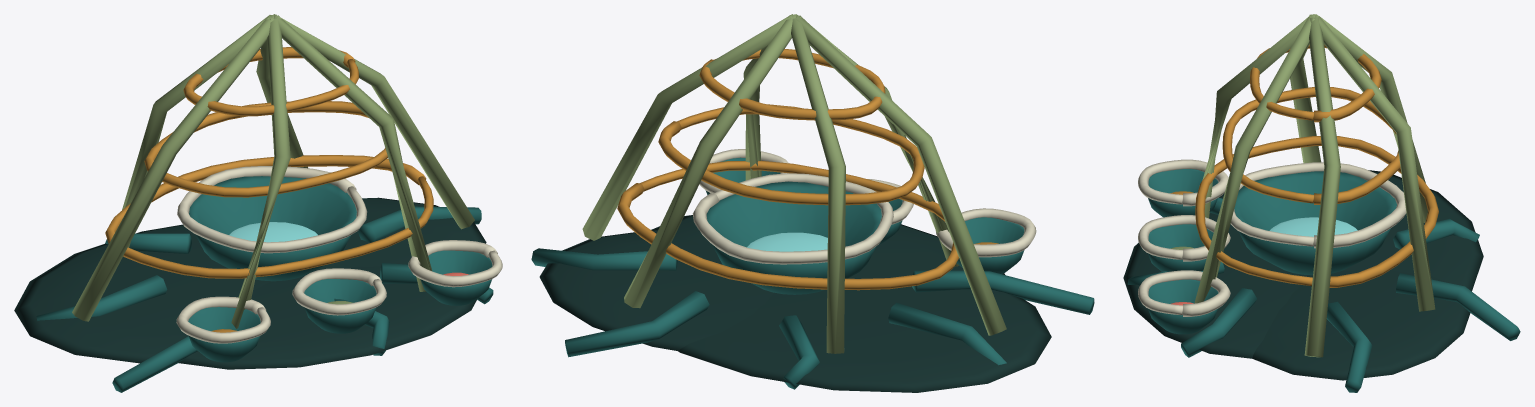
Rendered from building_composite_workshop_a.obj.
The picture shows the model from 3 angles, left to right: view 1: azimuth 30°, elevation 25°; view 2: azimuth 150°, elevation 25°; view 3: azimuth 270°, elevation 25°; orthographic projection. The views are drawn at different scales.
Visible parts, largest first — view 1: irregular_anchoring_lobe.102, irregular_anchoring_lobe.104, open_living_cup.103, woven_cross_strand, tensioned_forming_rib.003, tensioned_forming_rib.005, grown_cup_lip.103, tensioned_forming_rib, tensioned_forming_rib.004, woven_cross_strand.001, irregular_anchoring_lobe.103, tensioned_forming_rib.002 (+15 smaller); view 2: irregular_anchoring_lobe.102, irregular_anchoring_lobe.103, open_living_cup.103, woven_cross_strand, tensioned_forming_rib.003, tensioned_forming_rib.002, tensioned_forming_rib.001, tensioned_forming_rib, woven_cross_strand.001, grown_cup_lip.103, irregular_anchoring_lobe.104, anchoring_root.239 (+11 smaller); view 3: irregular_anchoring_lobe.103, open_living_cup.103, irregular_anchoring_lobe.104, tensioned_forming_rib, woven_cross_strand, tensioned_forming_rib.001, irregular_anchoring_lobe.102, tensioned_forming_rib.005, grown_cup_lip.103, woven_cross_strand.001, tensioned_forming_rib.004, open_living_cup.106 (+13 smaller).
Boxes of the visible parts, bbox=[...] form: irregular_anchoring_lobe.102: bbox=[14, 224, 270, 363]; irregular_anchoring_lobe.104: bbox=[178, 264, 477, 369]; open_living_cup.103: bbox=[189, 176, 356, 281]; woven_cross_strand: bbox=[105, 155, 433, 278]; tensioned_forming_rib.003: bbox=[72, 16, 273, 321]; tensioned_forming_rib.005: bbox=[276, 15, 432, 291]; grown_cup_lip.103: bbox=[177, 166, 367, 253]; tensioned_forming_rib: bbox=[274, 14, 474, 229]; tensioned_forming_rib.004: bbox=[231, 18, 290, 328]; woven_cross_strand.001: bbox=[144, 101, 387, 197]; irregular_anchoring_lobe.103: bbox=[317, 197, 486, 269]; tensioned_forming_rib.002: bbox=[122, 15, 271, 247]; irregular_anchoring_lobe.102: bbox=[678, 287, 1051, 392]; irregular_anchoring_lobe.103: bbox=[539, 230, 773, 350]; open_living_cup.103: bbox=[706, 181, 881, 294]; woven_cross_strand: bbox=[617, 160, 958, 290]; tensioned_forming_rib.003: bbox=[796, 15, 1006, 335]; tensioned_forming_rib.002: bbox=[791, 17, 845, 353]; tensioned_forming_rib.001: bbox=[624, 16, 792, 308]; tensioned_forming_rib: bbox=[582, 14, 793, 240]; woven_cross_strand.001: bbox=[658, 104, 924, 205]; grown_cup_lip.103: bbox=[692, 173, 893, 264]; irregular_anchoring_lobe.104: bbox=[651, 215, 1005, 291]; anchoring_root.239: bbox=[565, 291, 709, 357]; irregular_anchoring_lobe.103: bbox=[1252, 270, 1470, 380]; open_living_cup.103: bbox=[1234, 171, 1396, 275]; irregular_anchoring_lobe.104: bbox=[1123, 212, 1308, 358]; tensioned_forming_rib: bbox=[1304, 17, 1340, 357]; woven_cross_strand: bbox=[1195, 136, 1438, 287]; tensioned_forming_rib.001: bbox=[1315, 16, 1435, 311]; irregular_anchoring_lobe.102: bbox=[1219, 170, 1483, 291]; tensioned_forming_rib.005: bbox=[1194, 16, 1314, 303]; grown_cup_lip.103: bbox=[1230, 162, 1406, 248]; woven_cross_strand.001: bbox=[1222, 87, 1400, 204]; tensioned_forming_rib.004: bbox=[1202, 15, 1311, 218]; open_living_cup.106: bbox=[1148, 279, 1218, 334].
Bounding box in the file's own units: 3.59 × 2.07 × 2.73.
